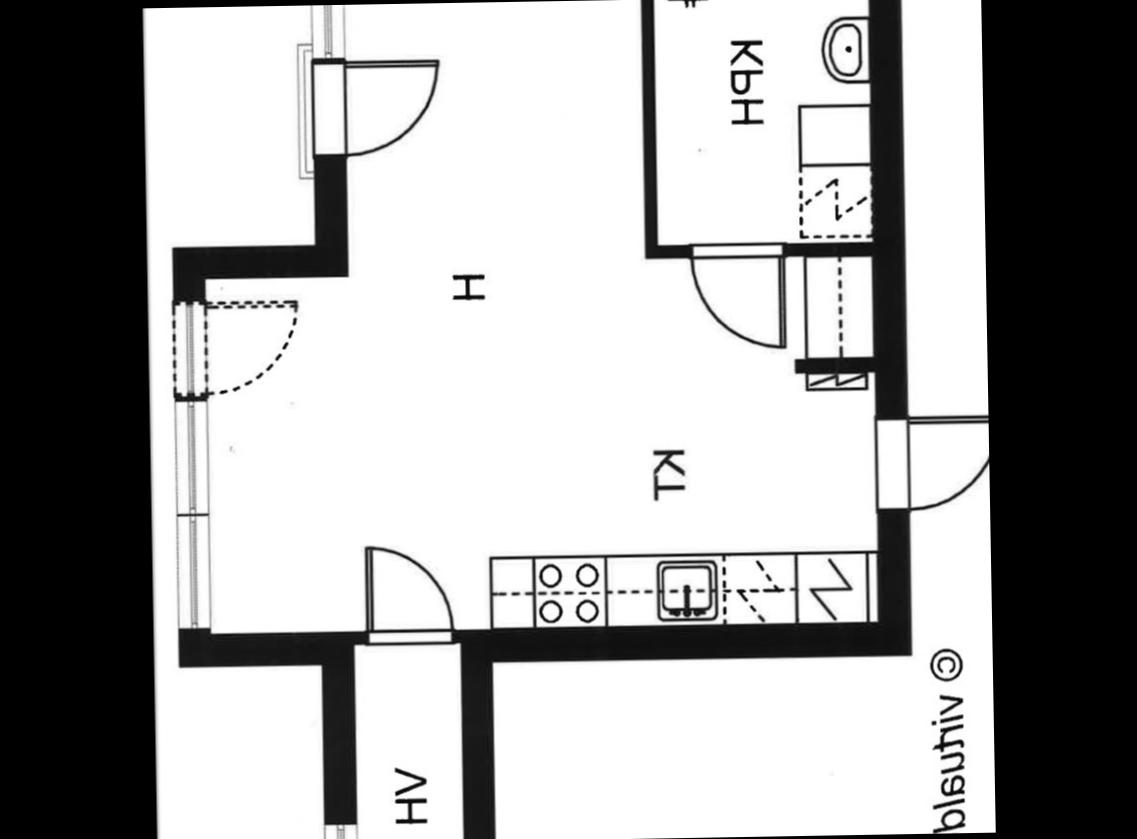door: (162, 292, 302, 406), (304, 48, 444, 160), (688, 234, 796, 356), (864, 408, 982, 516), (358, 540, 456, 648)
window: (160, 509, 219, 632), (165, 392, 218, 516), (304, 4, 352, 66), (315, 812, 365, 839)
